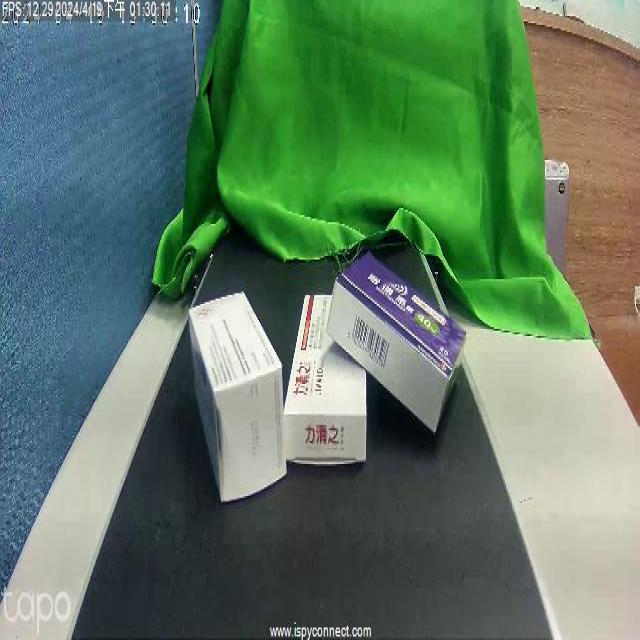box: (334, 255, 464, 422), (278, 291, 359, 497), (196, 291, 272, 500)
